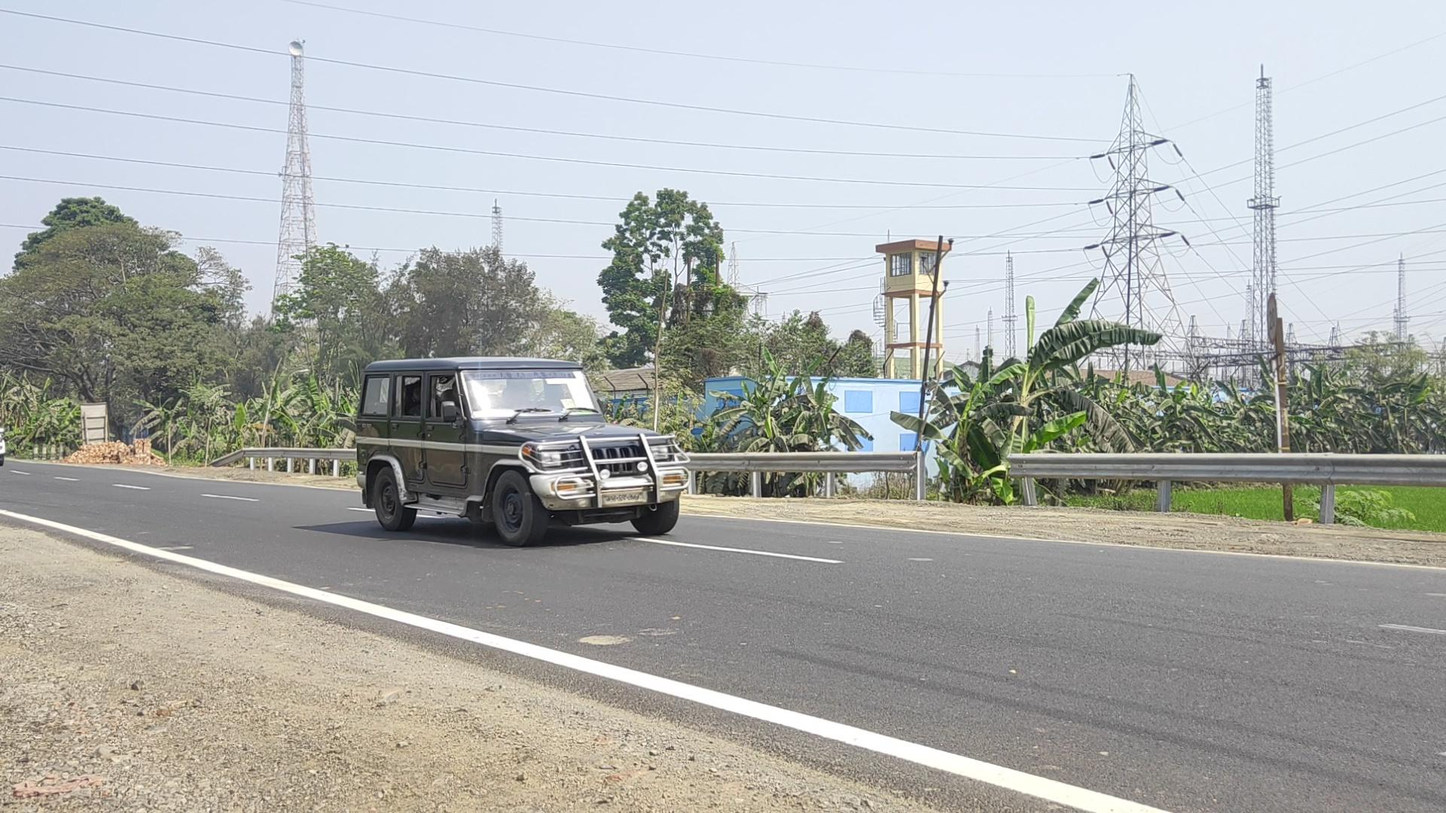car: (355, 357, 691, 547)
